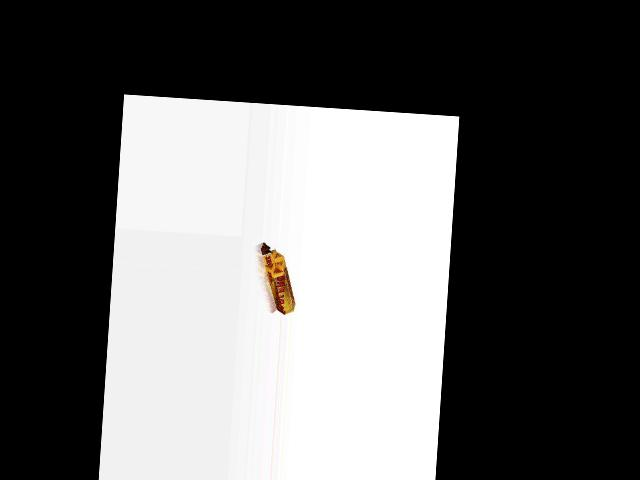chocolate: (253, 241, 300, 314)
